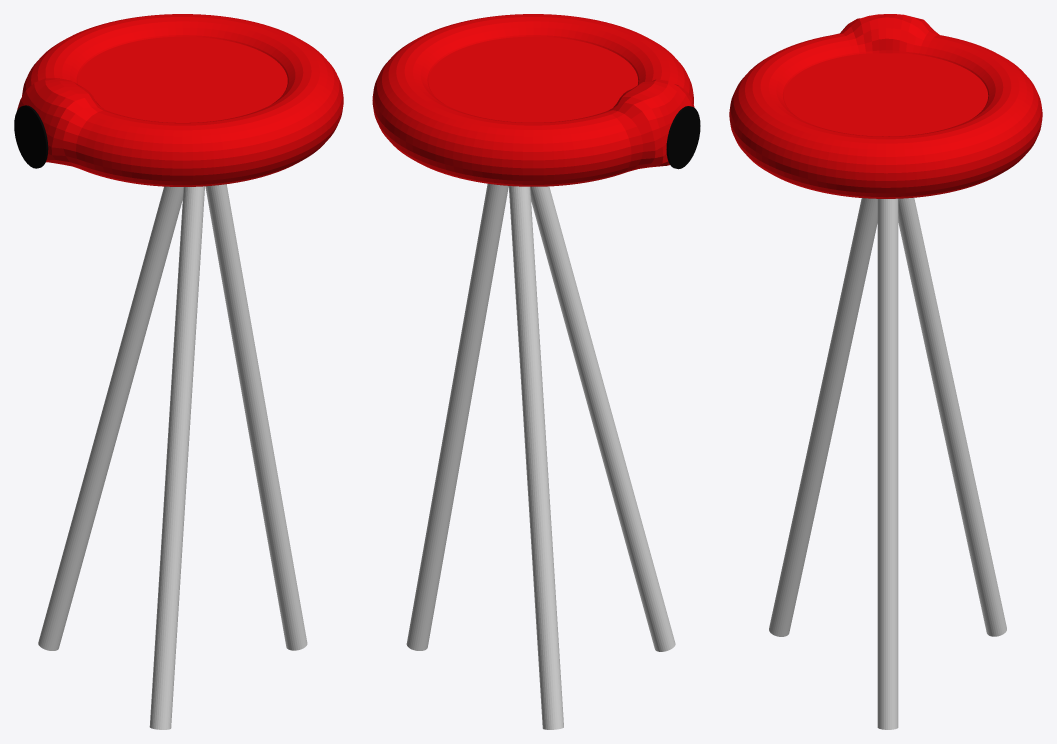
Rendered from BowlingMachine.fbx.
3 renders of one model, left to right at view 1: azimuth 30°, elevation 25°; view 2: azimuth 150°, elevation 25°; view 3: azimuth 270°, elevation 25°, orthographic. The views are drawn at different scales.
Visible parts, largest first — view 1: Machine1, Machine2, Tripod1, Tripod3, Tripod2, Face; view 2: Machine1, Machine2, Tripod3, Tripod1, Tripod2, Face; view 3: Machine1, Machine2, Tripod2, Tripod3, Tripod1.
Part boxes in pixels (x1=…): Machine1: x1=17, y1=14, x2=343, y2=186; Machine2: x1=77, y1=36, x2=287, y2=122; Tripod1: x1=149, y1=186, x2=204, y2=729; Tripod3: x1=38, y1=186, x2=183, y2=650; Tripod2: x1=205, y1=184, x2=307, y2=650; Face: x1=14, y1=105, x2=48, y2=168; Machine1: x1=372, y1=14, x2=694, y2=186; Machine2: x1=428, y1=36, x2=638, y2=122; Tripod3: x1=508, y1=186, x2=563, y2=729; Tripod1: x1=530, y1=186, x2=675, y2=651; Tripod2: x1=406, y1=183, x2=508, y2=650; Face: x1=666, y1=106, x2=700, y2=169; Machine1: x1=729, y1=14, x2=1042, y2=198; Machine2: x1=783, y1=53, x2=988, y2=136; Tripod2: x1=877, y1=198, x2=898, y2=729; Tripod3: x1=898, y1=197, x2=1006, y2=636; Tripod1: x1=769, y1=198, x2=877, y2=636.
Size of the model in its own units: 157 by 317 by 150.
